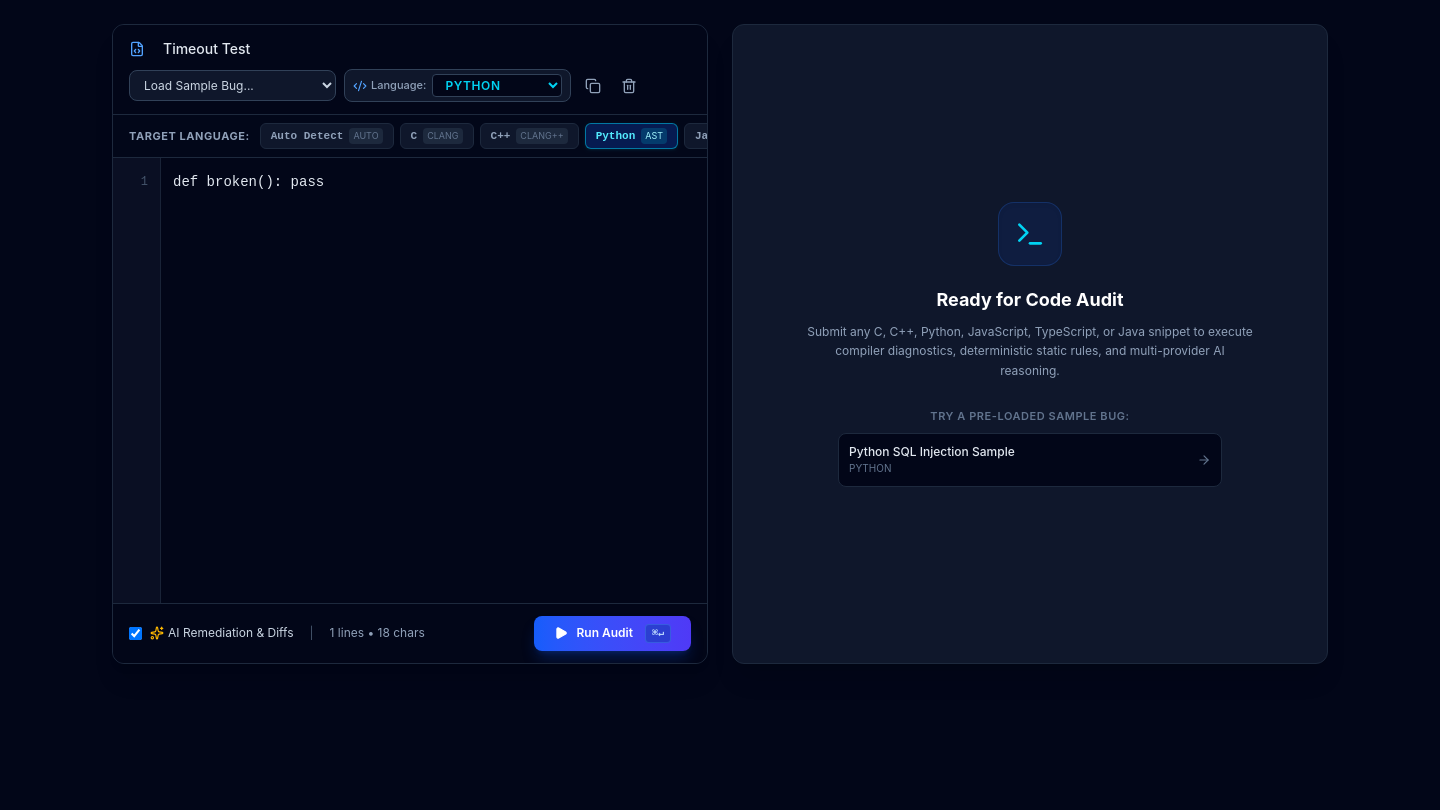
Test case: Code Audit Regression Tests › handles audit failure by displaying useful error message and clearing loading state
The image size is (1440, 810).
Click the button "Run Audit ⌘↵" at {"x": 613, "y": 633}, box [534,616,691,651]
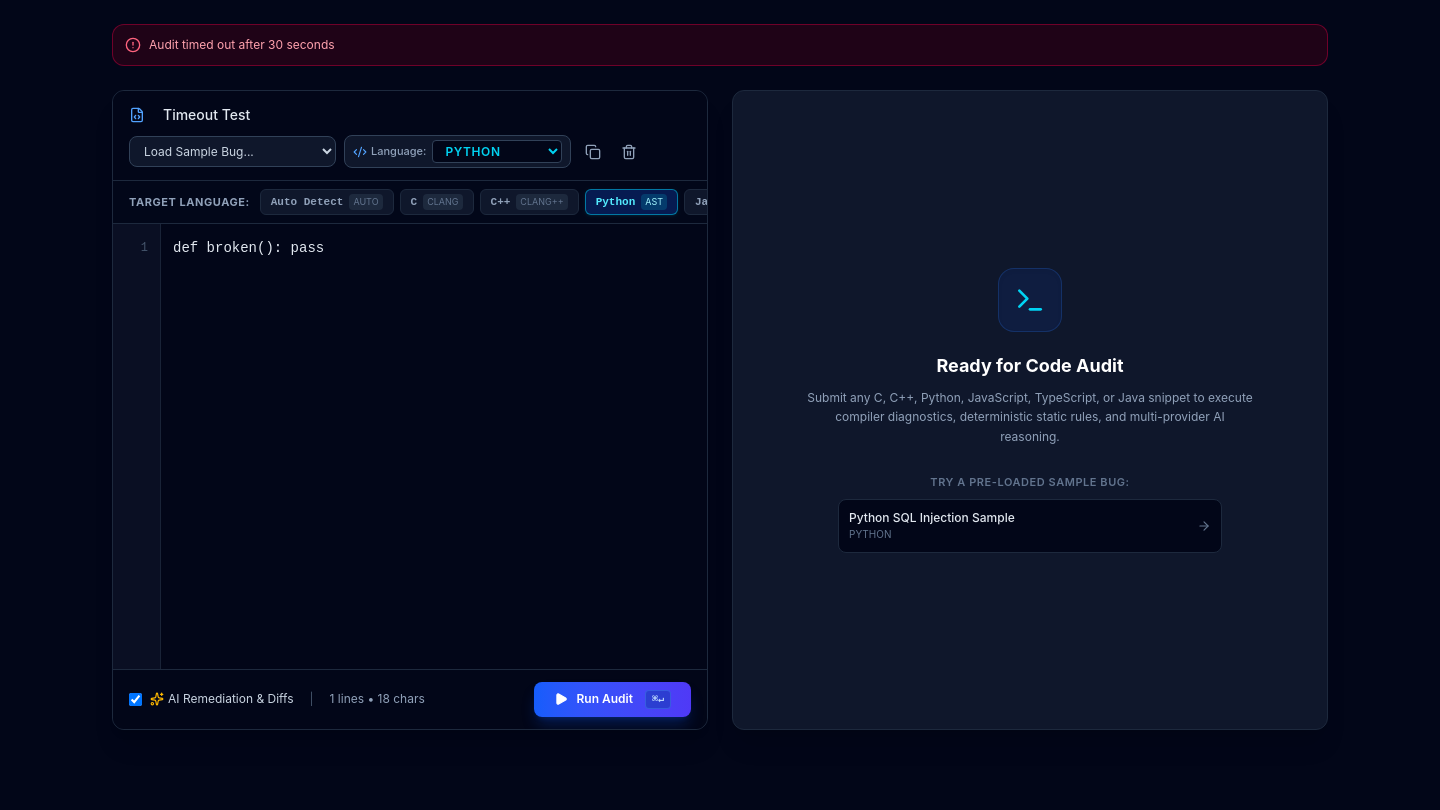
Expected: the button "Run Audit ⌘↵" is shown, [534,682,691,717]
Expected: the text "Audit timed out after 30 seconds" is shown, [149,37,335,53]
